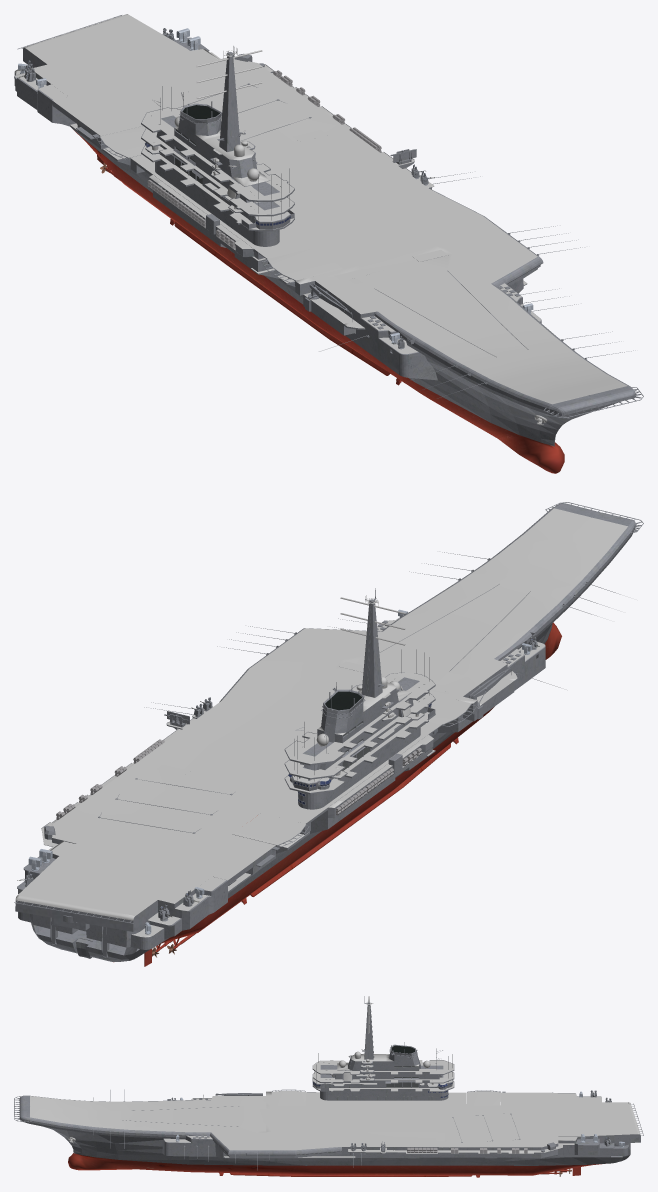
Rendered from ligen.gltf.
The picture shows the model from 3 angles, top to bottom: view 1: azimuth 30°, elevation 25°; view 2: azimuth 150°, elevation 25°; view 3: azimuth 270°, elevation 25°; orthographic projection. The views are drawn at different scales.
Parts seen in each view (by area): view 1: Mseh_9, Mseh_0, Mseh_5, Mseh_6, Mseh_7, Mseh_1, Mseh_4; view 2: Mseh_9, Mseh_0, Mseh_5, Mseh_6, Mseh_7, Mseh_1; view 3: Mseh_9, Mseh_0, Mseh_6, Mseh_5, Mseh_1, Mseh_7.
Part boxes in pixels (bbox=[...]): Mseh_9: bbox=[24, 14, 627, 404]; Mseh_0: bbox=[14, 15, 643, 446]; Mseh_5: bbox=[14, 48, 547, 425]; Mseh_6: bbox=[74, 130, 564, 473]; Mseh_7: bbox=[147, 70, 381, 248]; Mseh_1: bbox=[152, 50, 262, 209]; Mseh_4: bbox=[18, 28, 533, 344]; Mseh_9: bbox=[15, 508, 627, 920]; Mseh_0: bbox=[14, 502, 643, 961]; Mseh_5: bbox=[41, 595, 544, 937]; Mseh_6: bbox=[113, 622, 561, 966]; Mseh_7: bbox=[56, 739, 421, 819]; Mseh_1: bbox=[299, 597, 418, 779]; Mseh_9: bbox=[30, 1091, 640, 1150]; Mseh_0: bbox=[14, 996, 643, 1170]; Mseh_6: bbox=[68, 1153, 605, 1177]; Mseh_5: bbox=[68, 1001, 600, 1157]; Mseh_1: bbox=[331, 996, 433, 1084]; Mseh_7: bbox=[407, 1147, 527, 1153].
Bounding box in the file's own units: 43.15 × 36.89 × 134.
